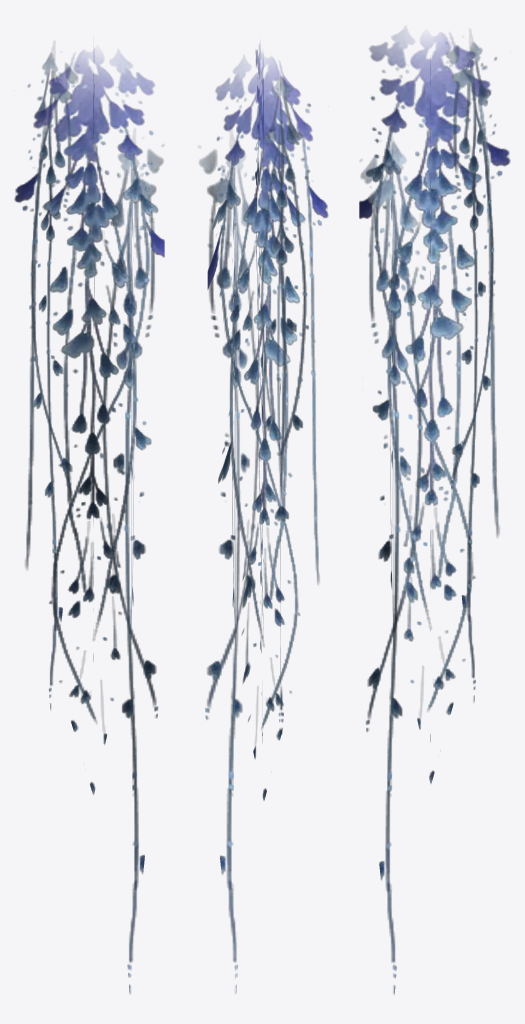
3 views of the same model, side by side, from view 1: azimuth 90°, elevation 25°; view 2: azimuth 210°, elevation 25°; view 3: azimuth 270°, elevation 25° (orthographic).
Size of the model in its own units: 0.9576 by 10.91 by 1.55.
1 material, 1 textured.
